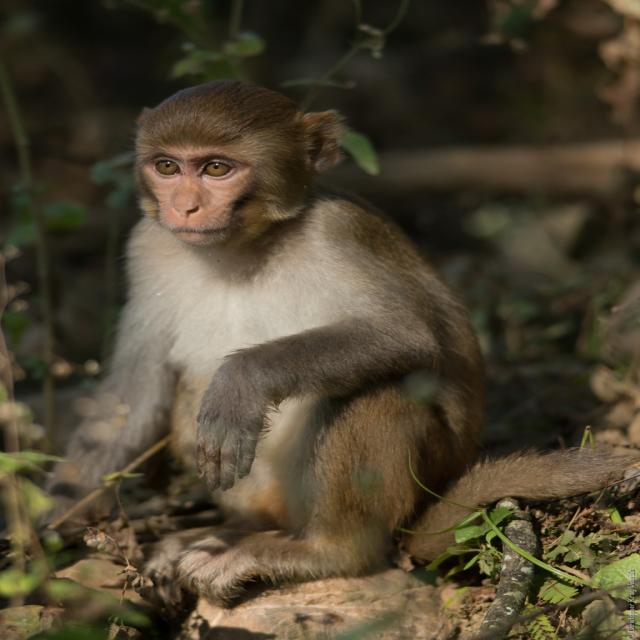Monkey: (86, 87, 546, 610)
